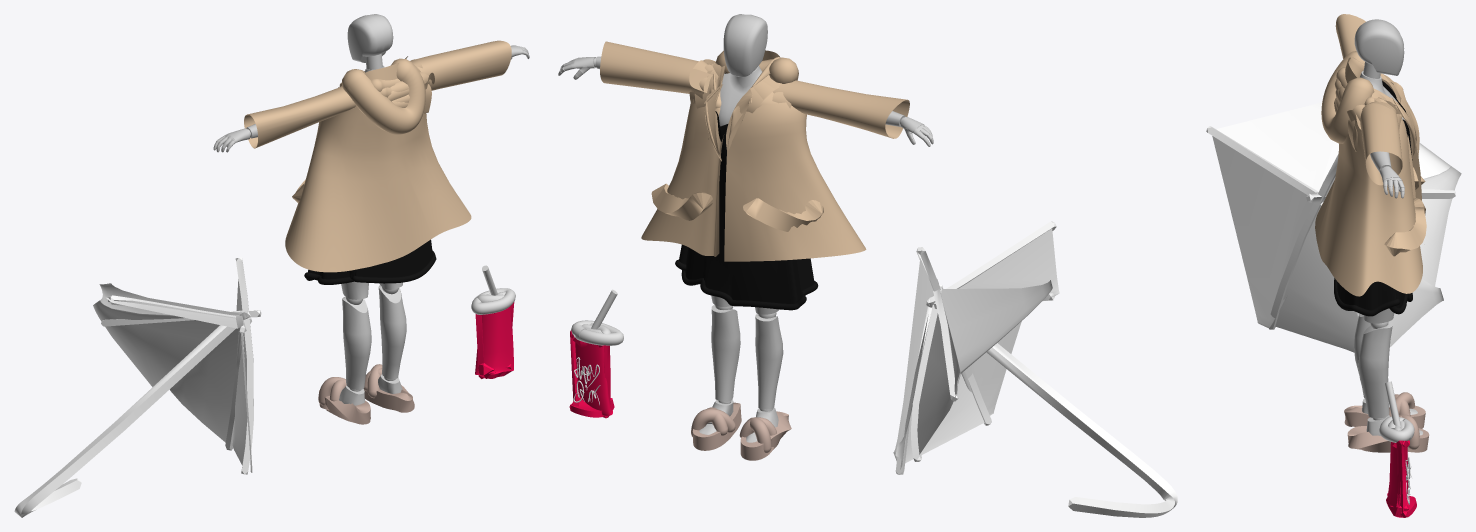
File: _Classy Girl.gltf
3 views of the same model, side by side, from view 1: azimuth 30°, elevation 25°; view 2: azimuth 150°, elevation 25°; view 3: azimuth 270°, elevation 25° (orthographic). The views are drawn at different scales.
Parts seen in each view (by area): view 1: classy_girl_2.007, classy_girl_2.009, classy_girl_2.003, classy_girl_2.011, classy_girl_2.008, classy_girl_2.004; view 2: classy_girl_2.007, classy_girl_2.009, classy_girl_2.003, classy_girl_2.004, classy_girl_2.011, classy_girl_2.008; view 3: classy_girl_2.009, classy_girl_2.007, classy_girl_2.003, classy_girl_2.011, classy_girl_2.008, classy_girl_2.004.
Boxes of the visible parts, x1=… form: classy_girl_2.007: x1=244, y1=40, x2=511, y2=272; classy_girl_2.009: x1=14, y1=257, x2=261, y2=517; classy_girl_2.003: x1=213, y1=14, x2=529, y2=405; classy_girl_2.011: x1=471, y1=265, x2=515, y2=378; classy_girl_2.008: x1=318, y1=364, x2=414, y2=424; classy_girl_2.004: x1=304, y1=239, x2=436, y2=284; classy_girl_2.007: x1=600, y1=41, x2=909, y2=261; classy_girl_2.009: x1=893, y1=221, x2=1177, y2=517; classy_girl_2.003: x1=558, y1=14, x2=933, y2=442; classy_girl_2.004: x1=675, y1=72, x2=818, y2=310; classy_girl_2.011: x1=569, y1=289, x2=623, y2=418; classy_girl_2.008: x1=691, y1=402, x2=791, y2=460; classy_girl_2.009: x1=1206, y1=102, x2=1461, y2=352; classy_girl_2.007: x1=1315, y1=14, x2=1426, y2=296; classy_girl_2.003: x1=1354, y1=19, x2=1422, y2=435; classy_girl_2.011: x1=1379, y1=381, x2=1416, y2=517; classy_girl_2.008: x1=1344, y1=392, x2=1429, y2=452; classy_girl_2.004: x1=1334, y1=80, x2=1412, y2=316.
Bounding box in the file's own units: 46.53 × 32.7 × 17.94.
